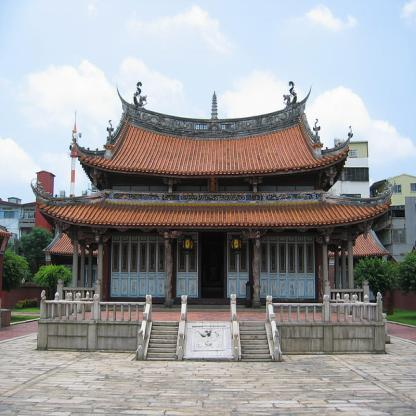Building Outline: (30, 81, 395, 362)
Dont: (230, 235, 242, 255), (183, 235, 194, 254)
Door: (201, 232, 224, 298)
Facade: (100, 151, 325, 353)
Ground Floor: (101, 176, 325, 320)
Pillar: (163, 243, 175, 306), (251, 243, 262, 307), (73, 240, 78, 305), (349, 241, 354, 305), (322, 246, 327, 305), (98, 245, 103, 304)
Roof: (76, 123, 350, 192), (35, 198, 392, 229)
